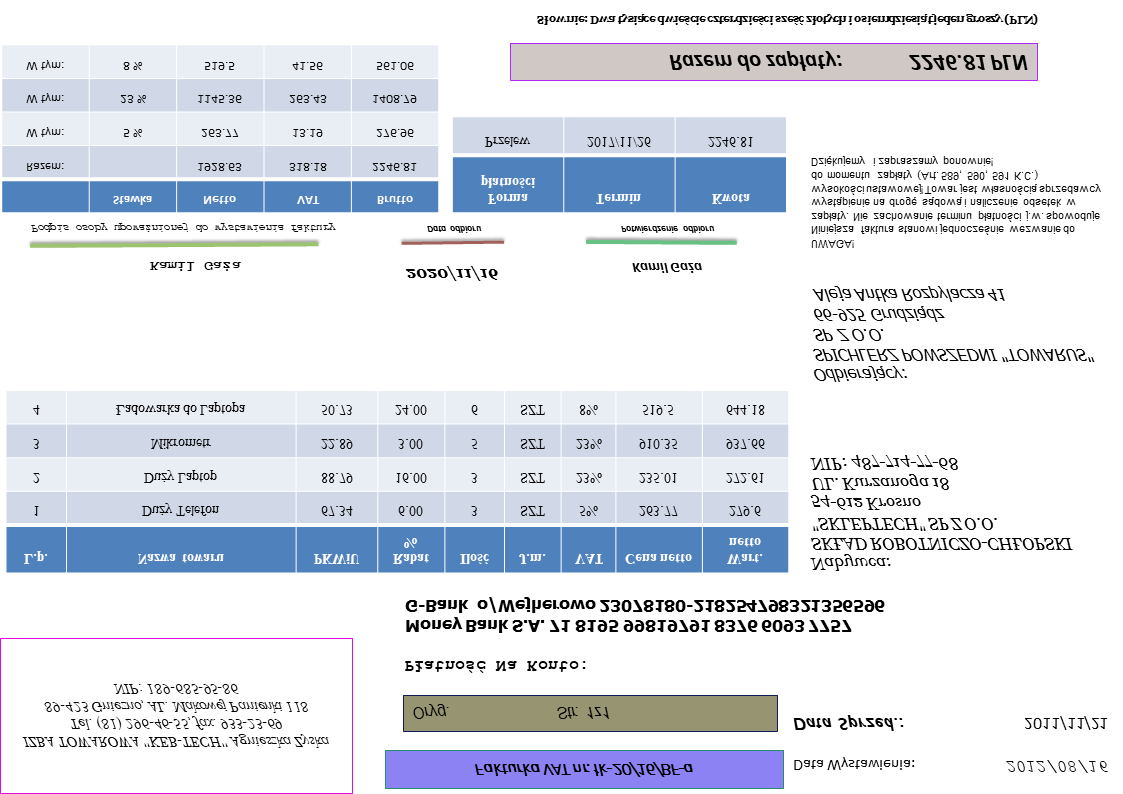Table: (4, 389, 789, 576), (1, 45, 439, 214), (451, 116, 787, 215)
TextBox: (807, 451, 1075, 575), (809, 283, 1100, 386), (807, 153, 1106, 253), (20, 679, 331, 755), (402, 594, 888, 638), (665, 49, 1031, 76), (533, 11, 1040, 30), (28, 219, 338, 237), (469, 758, 697, 780), (410, 701, 613, 724), (400, 655, 588, 676), (789, 712, 912, 734), (790, 757, 918, 775), (1003, 756, 1111, 777), (402, 264, 500, 285), (147, 257, 246, 275), (1020, 714, 1111, 733), (618, 222, 715, 238), (627, 259, 705, 277), (423, 222, 485, 236)
